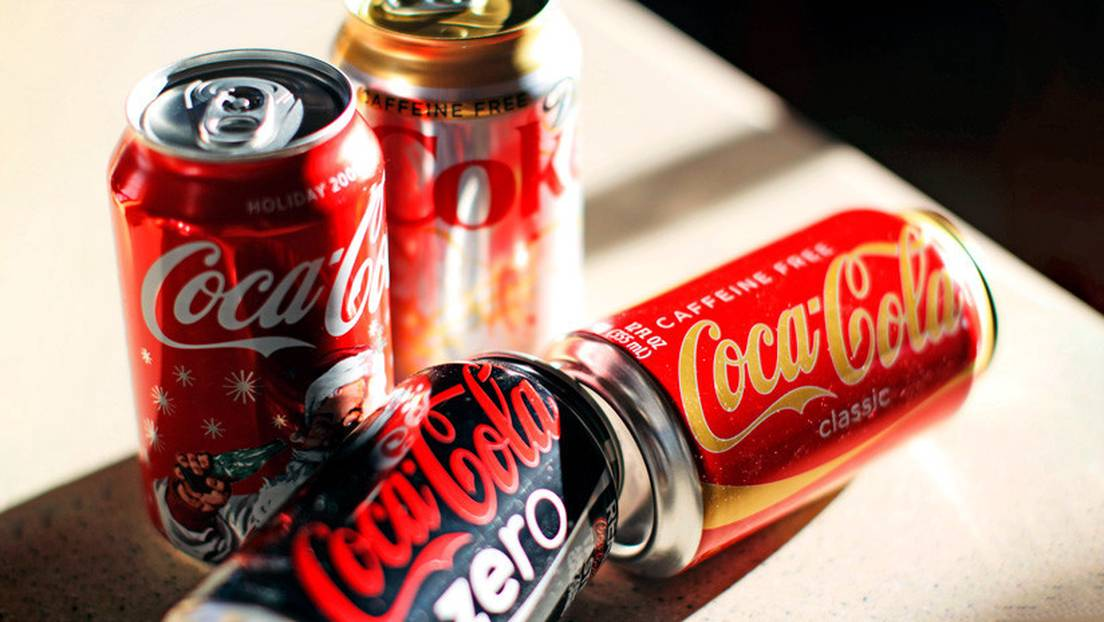Coca-Cola: (100, 109, 389, 508), (614, 262, 1011, 486)
